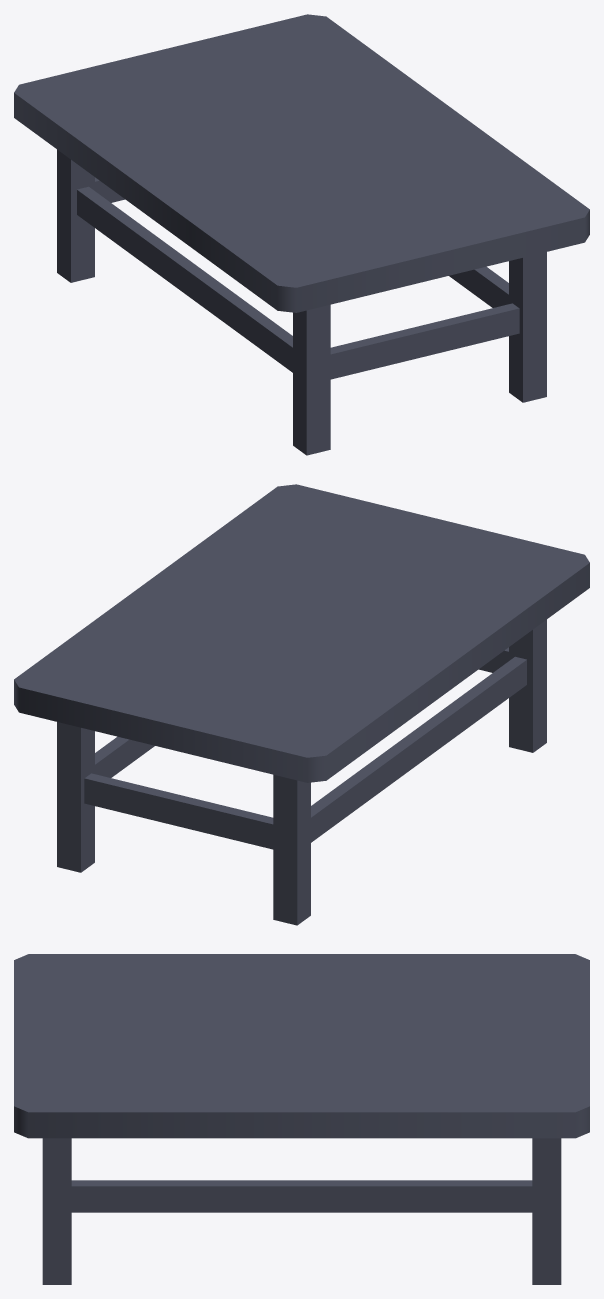
Rendered from stall.glb.
3 views of the same model, one above another, from view 1: azimuth 30°, elevation 25°; view 2: azimuth 150°, elevation 25°; view 3: azimuth 270°, elevation 25° (orthographic). The views are drawn at different scales.
Parts seen in each view (by area): view 1: stall; view 2: stall; view 3: stall.
Boxes of the visible parts, bbox=[...] form: stall: bbox=[14, 14, 589, 455]; stall: bbox=[14, 484, 589, 925]; stall: bbox=[14, 954, 589, 1284].
Bounding box in the file's own units: 0.65 × 0.3655 × 1.
1 material, 1 textured.
